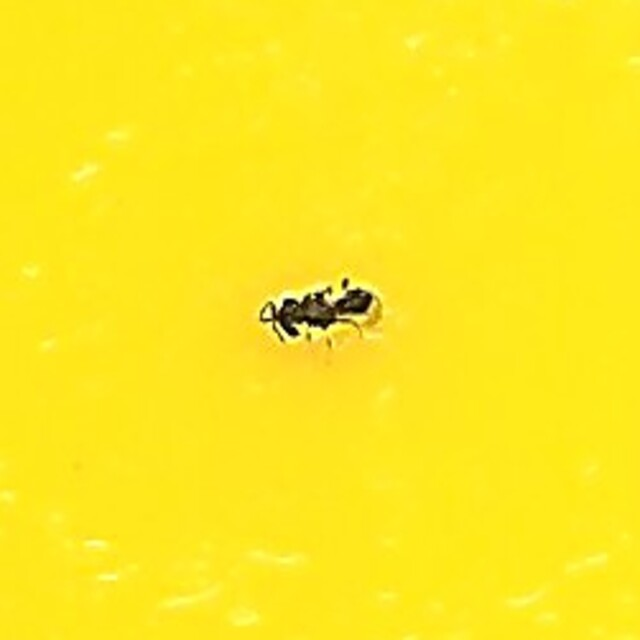Hymenoptera: (255, 284, 385, 356)
